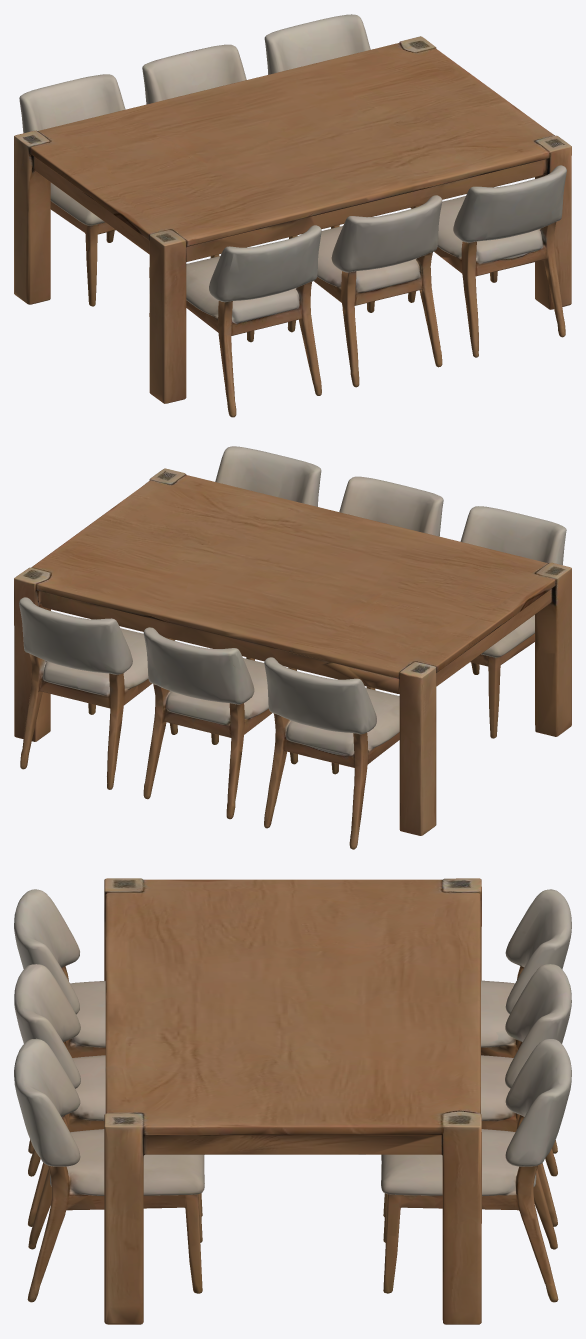
Rendered from dining_set_6.a0015671.glb.
The picture shows the model from 3 angles, top to bottom: view 1: azimuth 30°, elevation 25°; view 2: azimuth 150°, elevation 25°; view 3: azimuth 270°, elevation 25°; orthographic projection. The views are drawn at different scales.
Visible parts, largest first — view 1: tripo_node_ee59d88b-424a-4d35-816a-961c0b16177c; view 2: tripo_node_ee59d88b-424a-4d35-816a-961c0b16177c; view 3: tripo_node_ee59d88b-424a-4d35-816a-961c0b16177c.
Part boxes in pixels (bbox=[...]): tripo_node_ee59d88b-424a-4d35-816a-961c0b16177c: bbox=[14, 14, 571, 417]; tripo_node_ee59d88b-424a-4d35-816a-961c0b16177c: bbox=[14, 446, 571, 849]; tripo_node_ee59d88b-424a-4d35-816a-961c0b16177c: bbox=[14, 878, 571, 1324].
Bounding box in the file's own units: 1.9 × 0.7499 × 1.8.
1 material, 1 textured.
